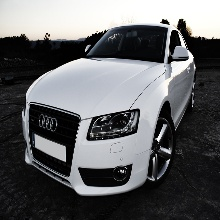no damage: (21, 23, 196, 198)
